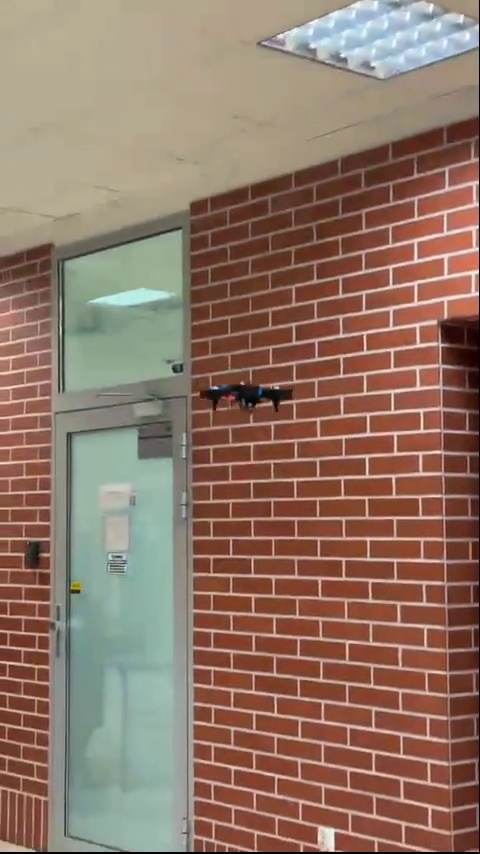drone: (201, 381, 293, 410)
